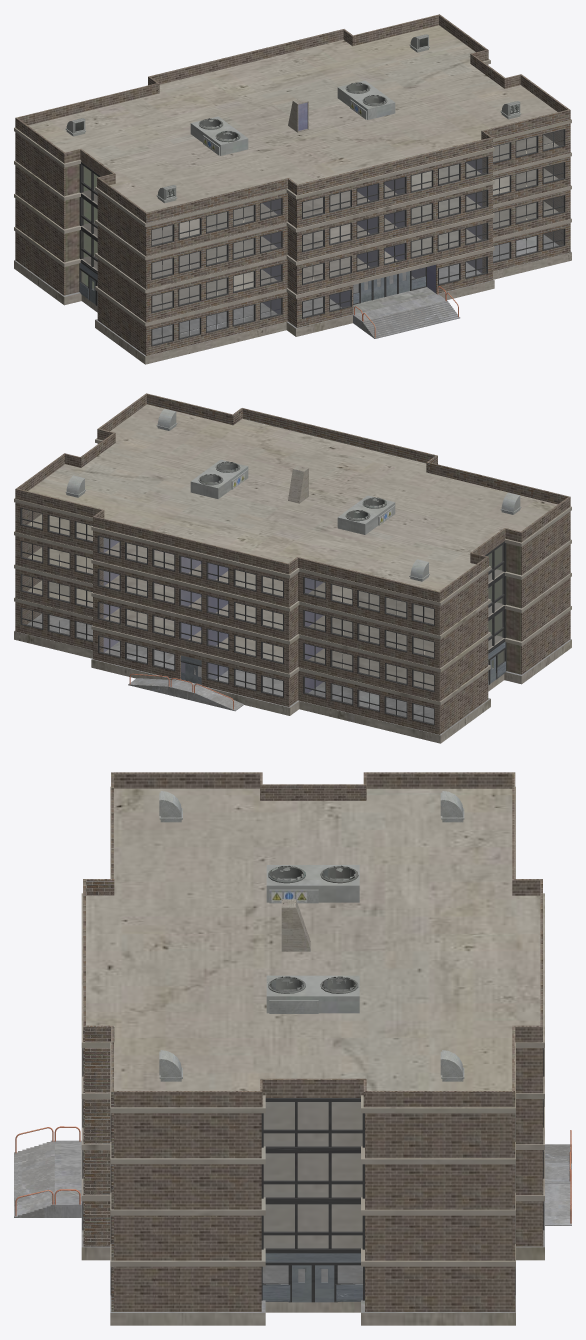
The model's file is high_school.glb.
3 renders of one model, top to bottom at view 1: azimuth 30°, elevation 25°; view 2: azimuth 150°, elevation 25°; view 3: azimuth 270°, elevation 25°, orthographic. The views are drawn at different scales.
Parts seen in each view (by area): view 1: high_school; view 2: high_school; view 3: high_school.
Part boxes in pixels (bbox=[...]): high_school: bbox=[14, 14, 571, 364]; high_school: bbox=[14, 393, 571, 743]; high_school: bbox=[14, 772, 571, 1325].
Size of the model in its own units: 47.06 by 17.84 by 34.51.
Materials: 26 (23 with a texture image).
